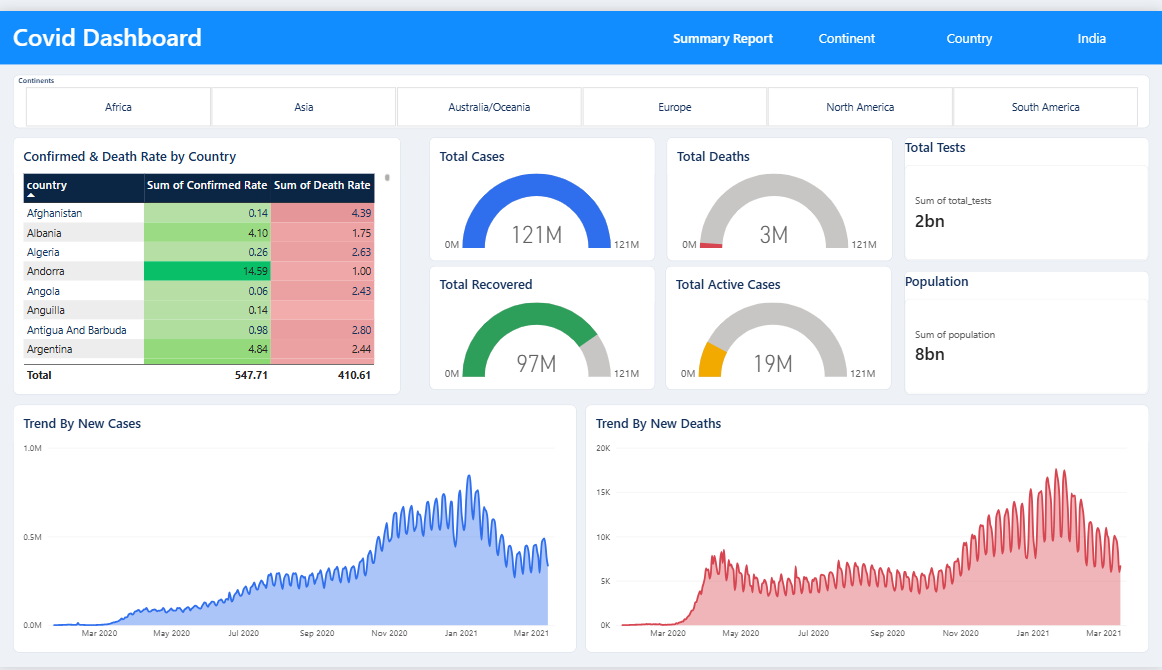

This screenshot's page, from the dashboard's own definition file:
{"tool":"powerbi","page":{"name":"Summary Report","canvas":[1920,1080],"ordinal":0},"visuals":[{"type":"gauge","title":"Total Cases","fields":{"Y":["Sum(Summary Data.total_confirmed)"],"MaxValue":["Sum(Summary Data.total_confirmed)"]},"box":[710.1,207.9,372,204],"z":0},{"type":"gauge","title":"Total Deaths","fields":{"MaxValue":["Sum(Summary Data.total_confirmed)"],"Y":["Sum(Summary Data.total_deaths)"]},"box":[1101.2,207.9,372,204],"z":1000},{"type":"gauge","title":"Total Recovered","fields":{"MaxValue":["Sum(Summary Data.total_confirmed)"],"Y":["Sum(Summary Data.total_recovered)"]},"box":[710.1,419.9,372,204],"z":2000},{"type":"gauge","title":"Total Active Cases","fields":{"MaxValue":["Sum(Summary Data.total_confirmed)"],"Y":["Sum(Summary Data.active_cases)"]},"box":[1099.1,419.9,372,204],"z":3000},{"type":"tableEx","title":"Confirmed & Death Rate by Country","fields":{"Values":["Summary Data.country","Sum(Summary Data.Confirmed Rate)","Sum(Summary Data.Death Rate)"]},"box":[24.7,207.9,638.1,424],"z":4000},{"type":"areaChart","title":"Trend By New Cases","fields":{"Y":["Sum(Daily Data.daily_new_cases)"],"Category":["Daily Data.date"]},"box":[24,648,928,408],"z":5000},{"type":"areaChart","title":"Trend By New Deaths","fields":{"Category":["Daily Data.date"],"Y":["Sum(Daily Data.daily_new_deaths)"]},"box":[968,648,928,408],"z":6000},{"type":"cardVisual","title":"Population","fields":{"Data":["Sum(Summary Data.population)"]},"box":[1492.3,428.1,403.4,203.8],"z":7000},{"type":"cardVisual","title":"Total Tests","fields":{"Data":["Sum(Summary Data.total_tests)"]},"box":[1492.3,207.9,403.4,203.8],"z":8000},{"type":"slicer","fields":{"Values":["Summary Data.continent"]},"box":[24,104,1872,88],"z":9000},{"type":"shape","box":[0,0,1920,88],"z":20000},{"type":"textbox","box":[24,14,900,60],"z":21000},{"type":"shape","box":[1100,20,190,48],"z":22000},{"type":"shape","box":[1302,20,190,48],"z":23000},{"type":"shape","box":[1504,20,190,48],"z":24000},{"type":"shape","box":[1706,20,190,48],"z":25000}]}

Visuals, with their boxes in screenshot pixels (x1, y1, x2, y2), scaled from the page's 1920x1080 canvas onto the 1162x670 screenshot:
"Total Cases" gauge: <bbox>430, 129, 655, 256</bbox>
"Total Deaths" gauge: <bbox>666, 129, 892, 256</bbox>
"Total Recovered" gauge: <bbox>430, 260, 655, 387</bbox>
"Total Active Cases" gauge: <bbox>665, 260, 890, 387</bbox>
"Confirmed & Death Rate by Country" tableEx: <bbox>15, 129, 401, 392</bbox>
"Trend By New Cases" areaChart: <bbox>15, 402, 576, 655</bbox>
"Trend By New Deaths" areaChart: <bbox>586, 402, 1147, 655</bbox>
"Population" cardVisual: <bbox>903, 266, 1147, 392</bbox>
"Total Tests" cardVisual: <bbox>903, 129, 1147, 255</bbox>
slicer - Summary Data.continent: <bbox>15, 65, 1147, 119</bbox>
shape: <bbox>0, 0, 1161, 55</bbox>
textbox: <bbox>15, 9, 559, 46</bbox>
shape: <bbox>666, 12, 781, 42</bbox>
shape: <bbox>788, 12, 903, 42</bbox>
shape: <bbox>910, 12, 1025, 42</bbox>
shape: <bbox>1032, 12, 1147, 42</bbox>
